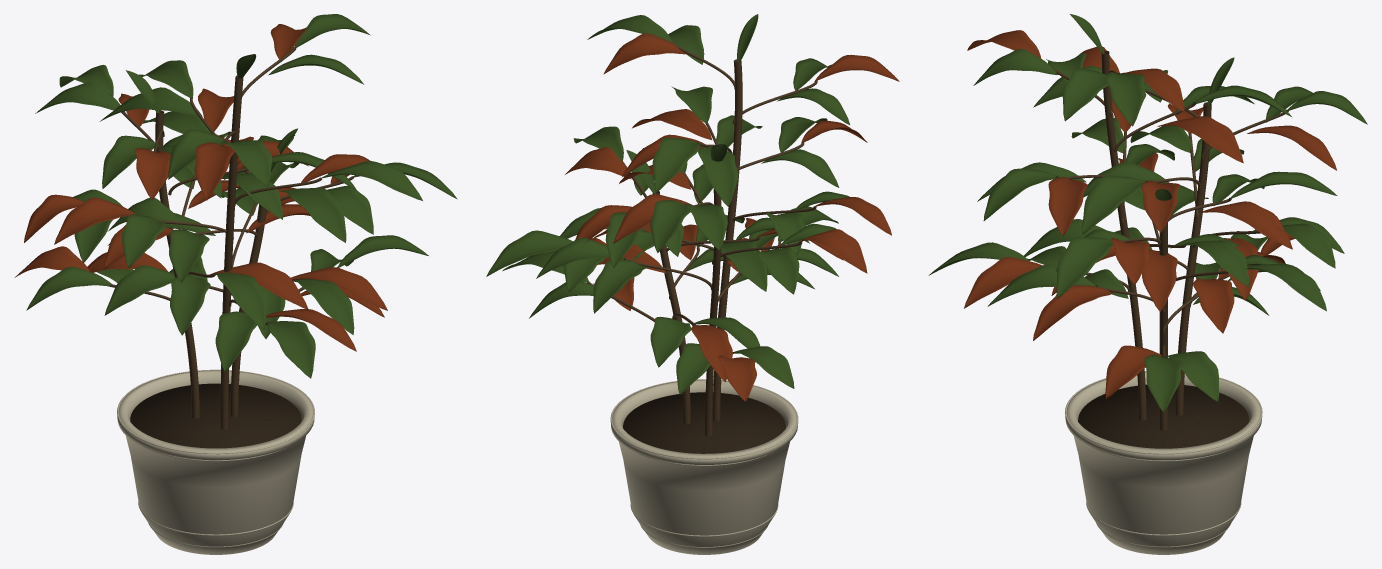
Rendered from Plant_Croton.fbx.
3 renders of one model, left to right at view 1: azimuth 30°, elevation 25°; view 2: azimuth 150°, elevation 25°; view 3: azimuth 270°, elevation 25°, orthographic. The views are drawn at different scales.
Parts seen in each view (by area): view 1: Glazed ceramic planter.003, Visible potting soil.003, Woody main stem.008, Croton variegated leaf.114, Croton variegated leaf.107, Croton variegated leaf.105, Croton variegated leaf.113, Croton variegated leaf.067, Croton variegated leaf.087, Croton variegated leaf.089, Croton variegated leaf.122, Croton variegated leaf.071 (+36 smaller); view 2: Glazed ceramic planter.003, Visible potting soil.003, Woody main stem.008, Croton variegated leaf.119, Croton variegated leaf.074, Croton variegated leaf.091, Croton variegated leaf.118, Croton variegated leaf.101, Croton variegated leaf.066, Croton variegated leaf.124, Croton variegated leaf.075, Croton variegated leaf.068 (+32 smaller); view 3: Glazed ceramic planter.003, Visible potting soil.003, Woody main stem.007, Woody main stem.008, Croton variegated leaf.080, Croton variegated leaf.098, Croton variegated leaf.081, Croton variegated leaf.115, Croton variegated leaf.106, Croton variegated leaf.065, Croton variegated leaf.072, Croton variegated leaf.117 (+33 smaller).
Part boxes in pixels (x1=…): Glazed ceramic planter.003: x1=117, y1=370, x2=314, y2=554; Visible potting soil.003: x1=130, y1=383, x2=301, y2=448; Woody main stem.008: x1=220, y1=75, x2=243, y2=429; Croton variegated leaf.114: x1=279, y1=188, x2=346, y2=242; Croton variegated leaf.107: x1=266, y1=321, x2=315, y2=378; Croton variegated leaf.105: x1=215, y1=311, x2=257, y2=372; Croton variegated leaf.113: x1=54, y1=197, x2=136, y2=244; Croton variegated leaf.067: x1=104, y1=265, x2=174, y2=315; Croton variegated leaf.087: x1=170, y1=275, x2=210, y2=335; Croton variegated leaf.089: x1=213, y1=272, x2=266, y2=329; Croton variegated leaf.122: x1=194, y1=142, x2=234, y2=200; Croton variegated leaf.071: x1=292, y1=279, x2=354, y2=334; Glazed ceramic planter.003: x1=610, y1=379, x2=798, y2=554; Visible potting soil.003: x1=623, y1=392, x2=785, y2=453; Woody main stem.008: x1=712, y1=59, x2=742, y2=421; Croton variegated leaf.119: x1=652, y1=137, x2=700, y2=192; Croton variegated leaf.074: x1=486, y1=230, x2=572, y2=276; Croton variegated leaf.091: x1=593, y1=259, x2=647, y2=313; Croton variegated leaf.118: x1=698, y1=146, x2=738, y2=206; Croton variegated leaf.101: x1=650, y1=200, x2=691, y2=252; Croton variegated leaf.066: x1=650, y1=316, x2=691, y2=367; Croton variegated leaf.124: x1=603, y1=33, x2=686, y2=74; Croton variegated leaf.075: x1=712, y1=241, x2=767, y2=291; Croton variegated leaf.068: x1=691, y1=325, x2=732, y2=382; Glazed ceramic planter.003: x1=1065, y1=371, x2=1262, y2=554; Visible potting soil.003: x1=1078, y1=384, x2=1249, y2=448; Woody main stem.007: x1=1175, y1=102, x2=1211, y2=415; Woody main stem.008: x1=1101, y1=50, x2=1146, y2=420; Croton variegated leaf.080: x1=1056, y1=237, x2=1113, y2=298; Croton variegated leaf.098: x1=1082, y1=175, x2=1146, y2=234; Croton variegated leaf.081: x1=1198, y1=201, x2=1292, y2=249; Croton variegated leaf.115: x1=1048, y1=177, x2=1087, y2=235; Croton variegated leaf.106: x1=964, y1=257, x2=1042, y2=308; Croton variegated leaf.065: x1=1144, y1=354, x2=1183, y2=412; Croton variegated leaf.072: x1=1193, y1=278, x2=1234, y2=333; Croton variegated leaf.117: x1=1157, y1=116, x2=1243, y2=163.
Bounding box in the file's own units: 1.01 × 1.25 × 0.9754.
